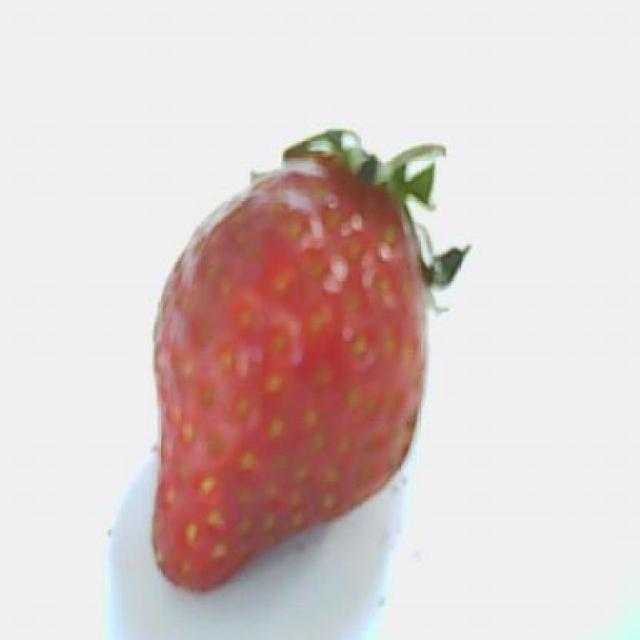strawberry: (154, 129, 469, 589)
